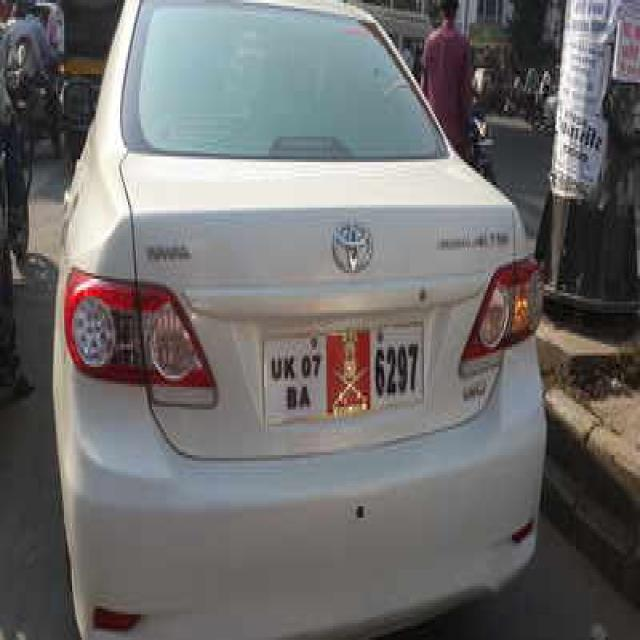Number-Plate: (260, 333, 425, 422), (262, 334, 264, 337)
